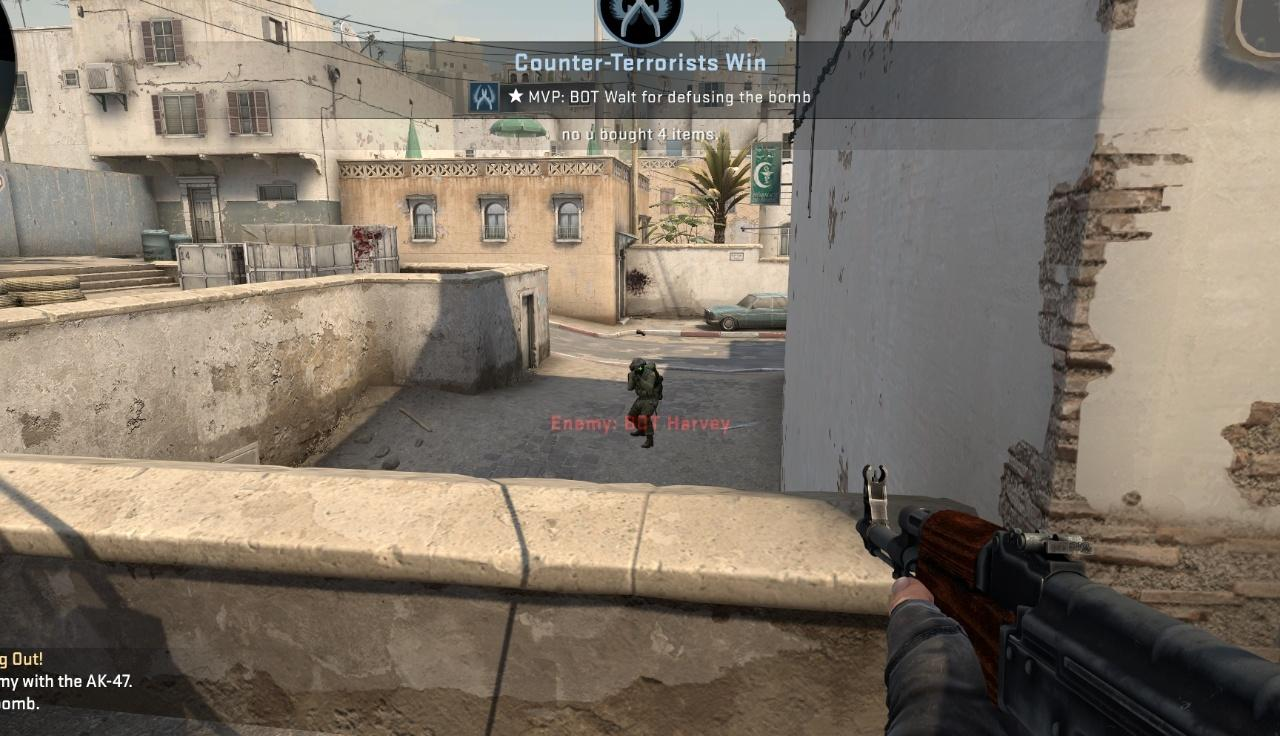ct: (628, 358, 662, 448)
cthead: (632, 358, 644, 375)
rifle: (856, 464, 1280, 736)
